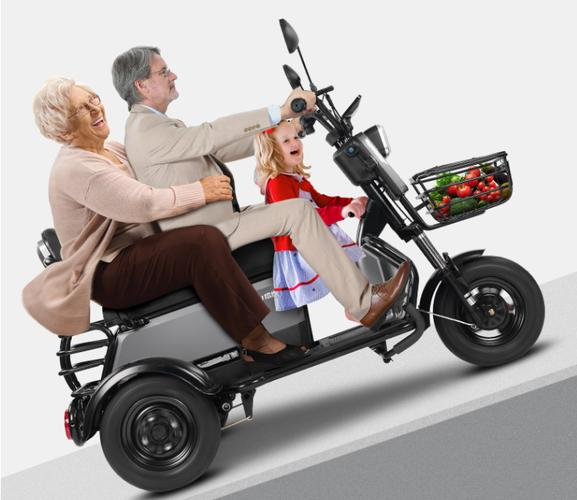driver: (96, 29, 400, 338)
overloading: (1, 15, 563, 495)
passenger: (237, 130, 445, 377), (11, 65, 142, 336)
